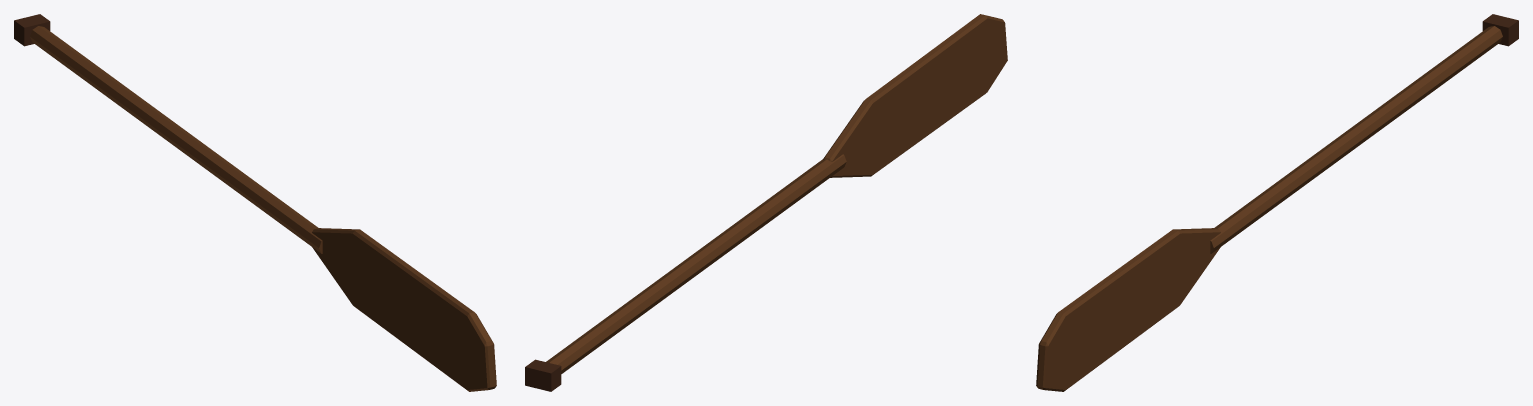
The model's file is paddle.glb.
3 renders of one model, left to right at view 1: azimuth 30°, elevation 25°; view 2: azimuth 150°, elevation 25°; view 3: azimuth 330°, elevation 25°, orthographic.
Parts seen in each view (by area): view 1: paddle; view 2: paddle; view 3: paddle.
Boxes of the visible parts, <box> form: paddle: <box>14,14,496,391</box>; paddle: <box>525,14,1007,391</box>; paddle: <box>1036,14,1518,391</box>.
Size of the model in its own units: 0.05 by 0.144 by 1.55.
